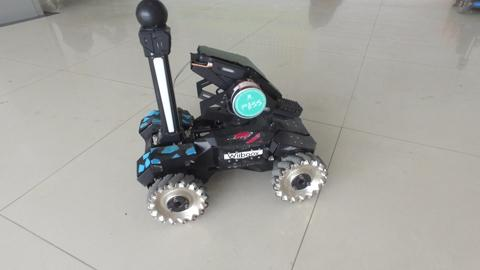chariot: (130, 1, 328, 226)
